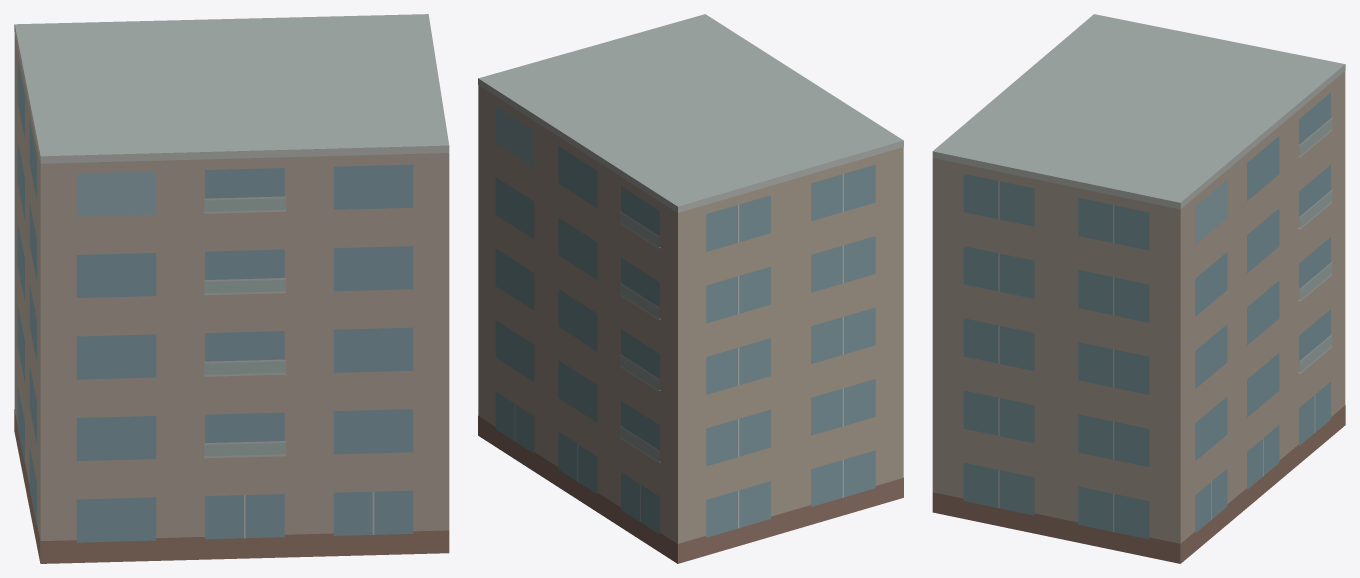
The model's file is survey-upis-32516630.glb.
3 renders of one model, left to right at view 1: azimuth 30°, elevation 25°; view 2: azimuth 150°, elevation 25°; view 3: azimuth 270°, elevation 25°, orthographic. The views are drawn at different scales.
Visible parts, largest first — view 1: survey-upis-32516630.tmp; view 2: survey-upis-32516630.tmp; view 3: survey-upis-32516630.tmp.
Boxes of the visible parts, x1,y1,x2,y2 form: survey-upis-32516630.tmp: [14, 14, 449, 563]; survey-upis-32516630.tmp: [478, 14, 903, 563]; survey-upis-32516630.tmp: [932, 14, 1345, 563].
Bounding box in the file's own units: 15.1 × 13.45 × 13.95.
